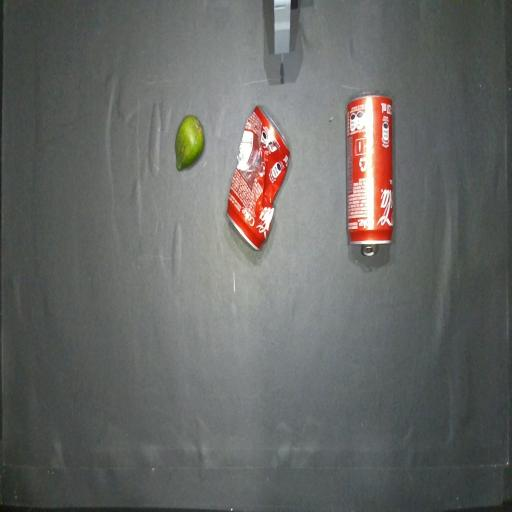higo: (176, 115, 204, 170)
lata: (346, 93, 393, 255)
lata_defectuoso: (227, 105, 290, 249)
